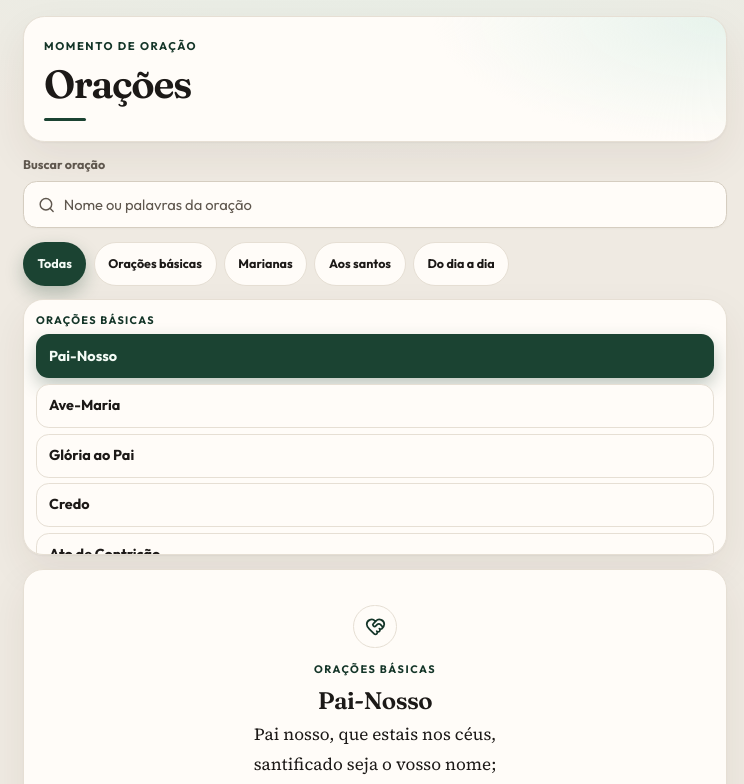
Test: PrayersPage › shows an empty state when nothing matches
Click the button "Aos santos": (360, 264) [314,242,406,286]
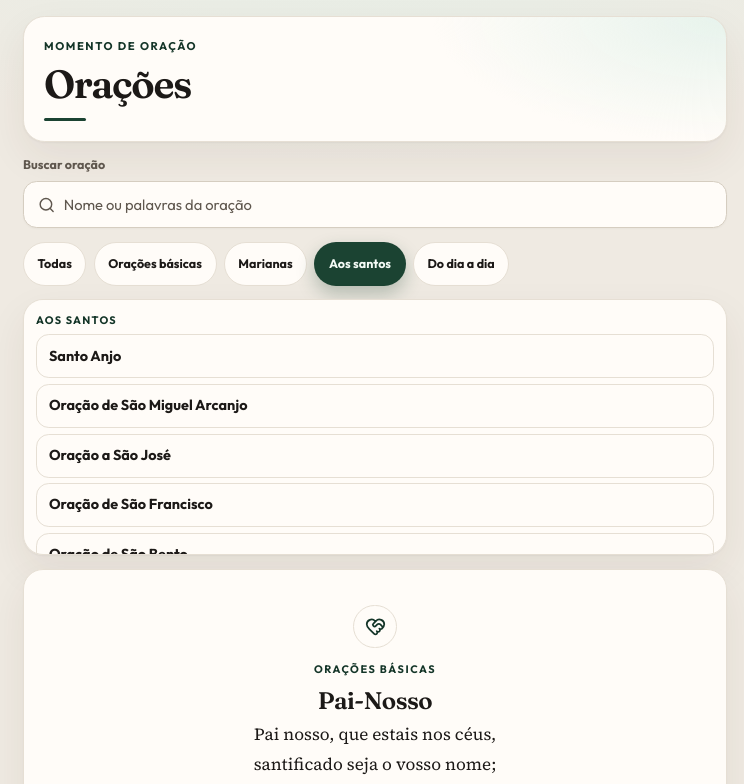
In the search field labelled "Buscar oração": (388, 205) [64,182,712,227], type "rainha"
(page scrolled)
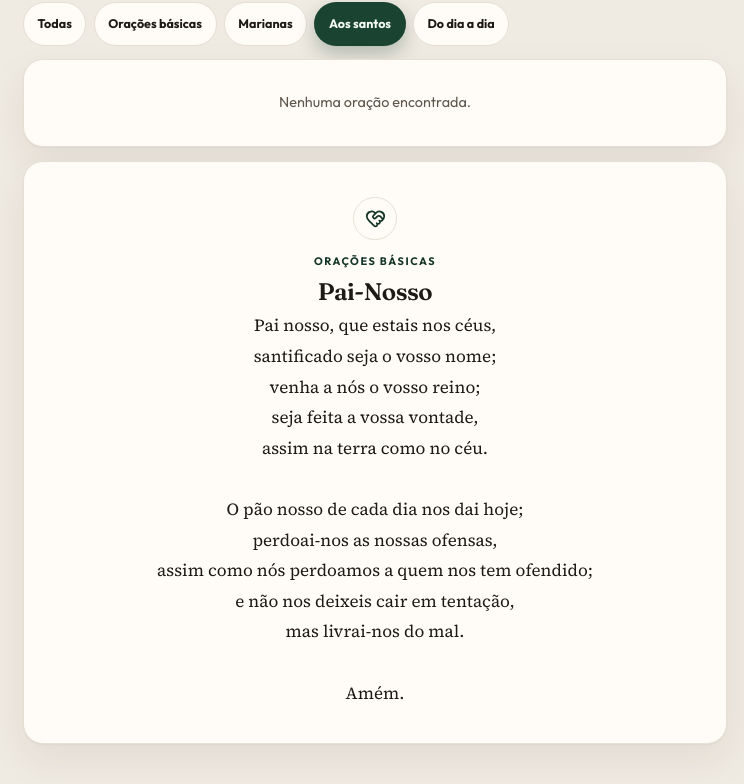
Expected: the element that starts with "Orações básicas" shows "Pai-Nosso", [318,278,432,306]
Expected: the message "Nenhuma oração encontrada." is shown, [279,94,471,112]
